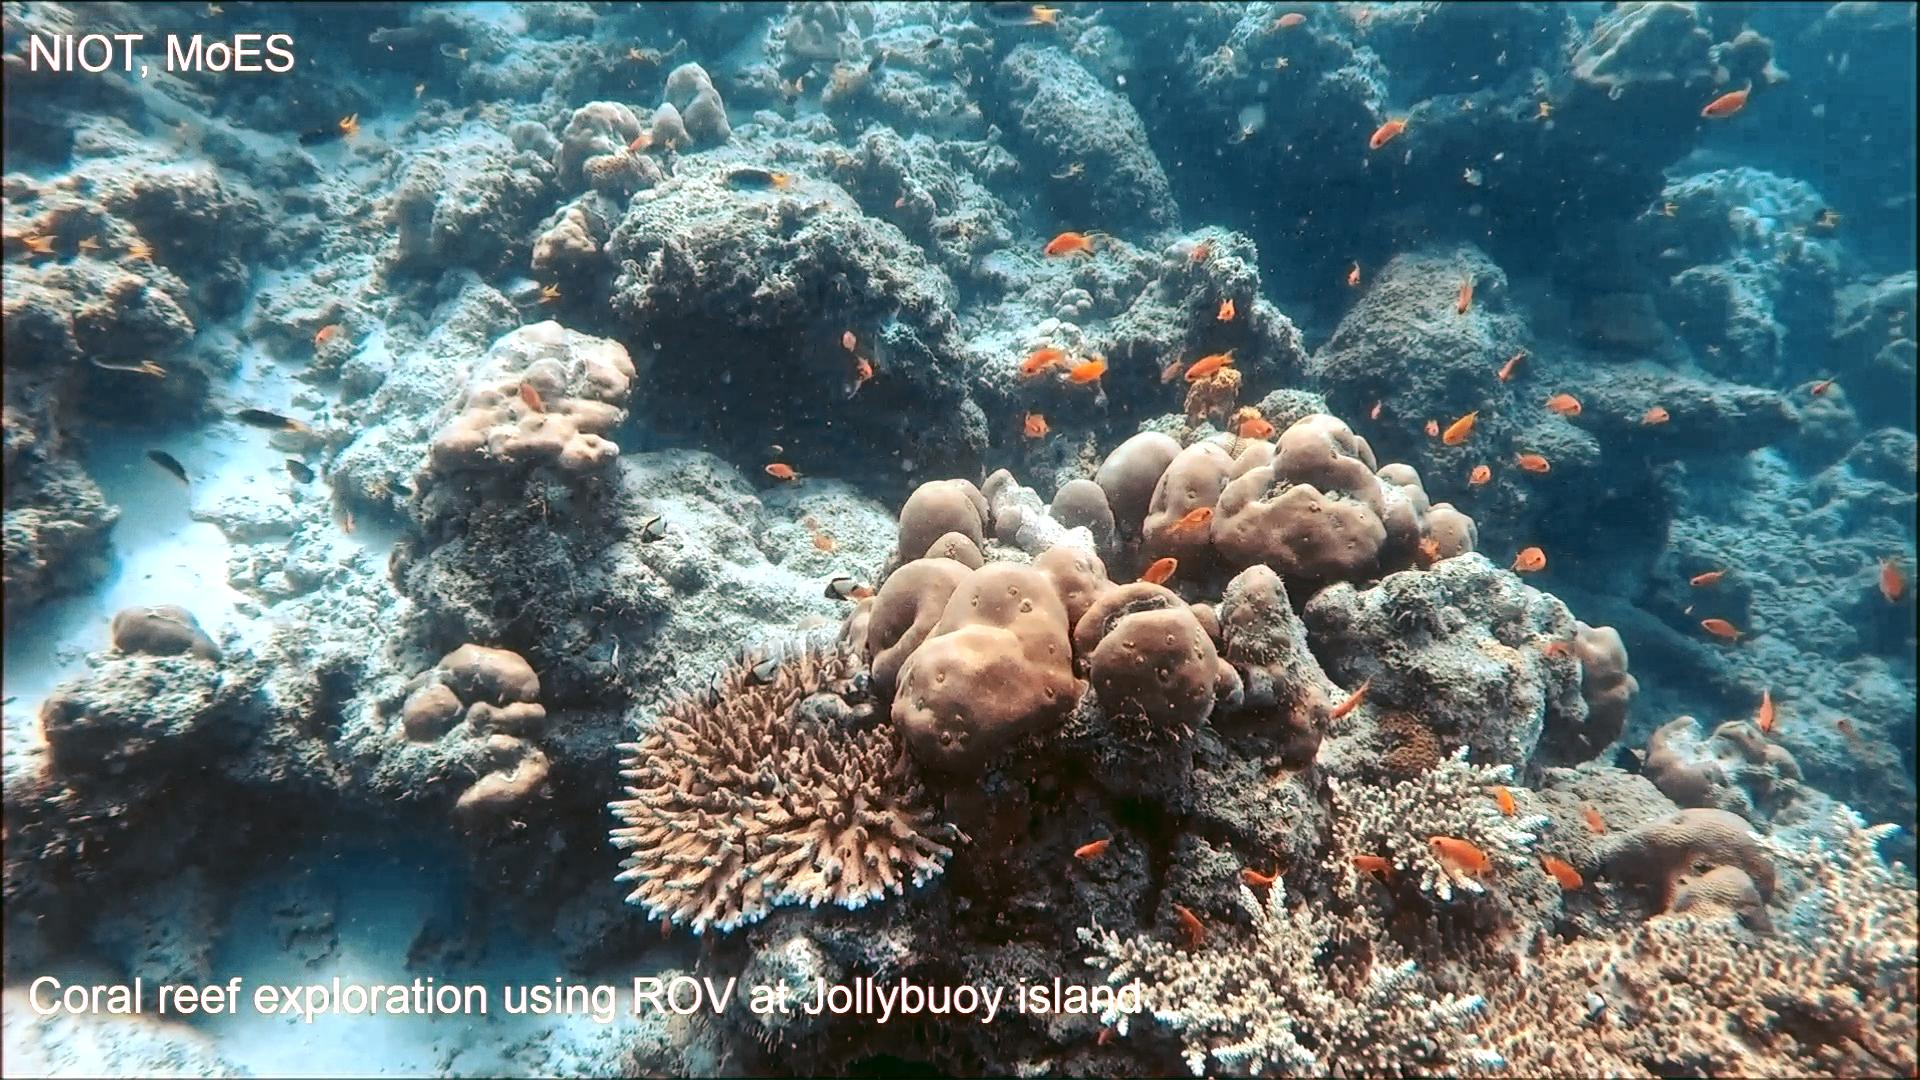Porites-Porites pukoensis: (840, 459, 1229, 787), (1077, 405, 1485, 591)
